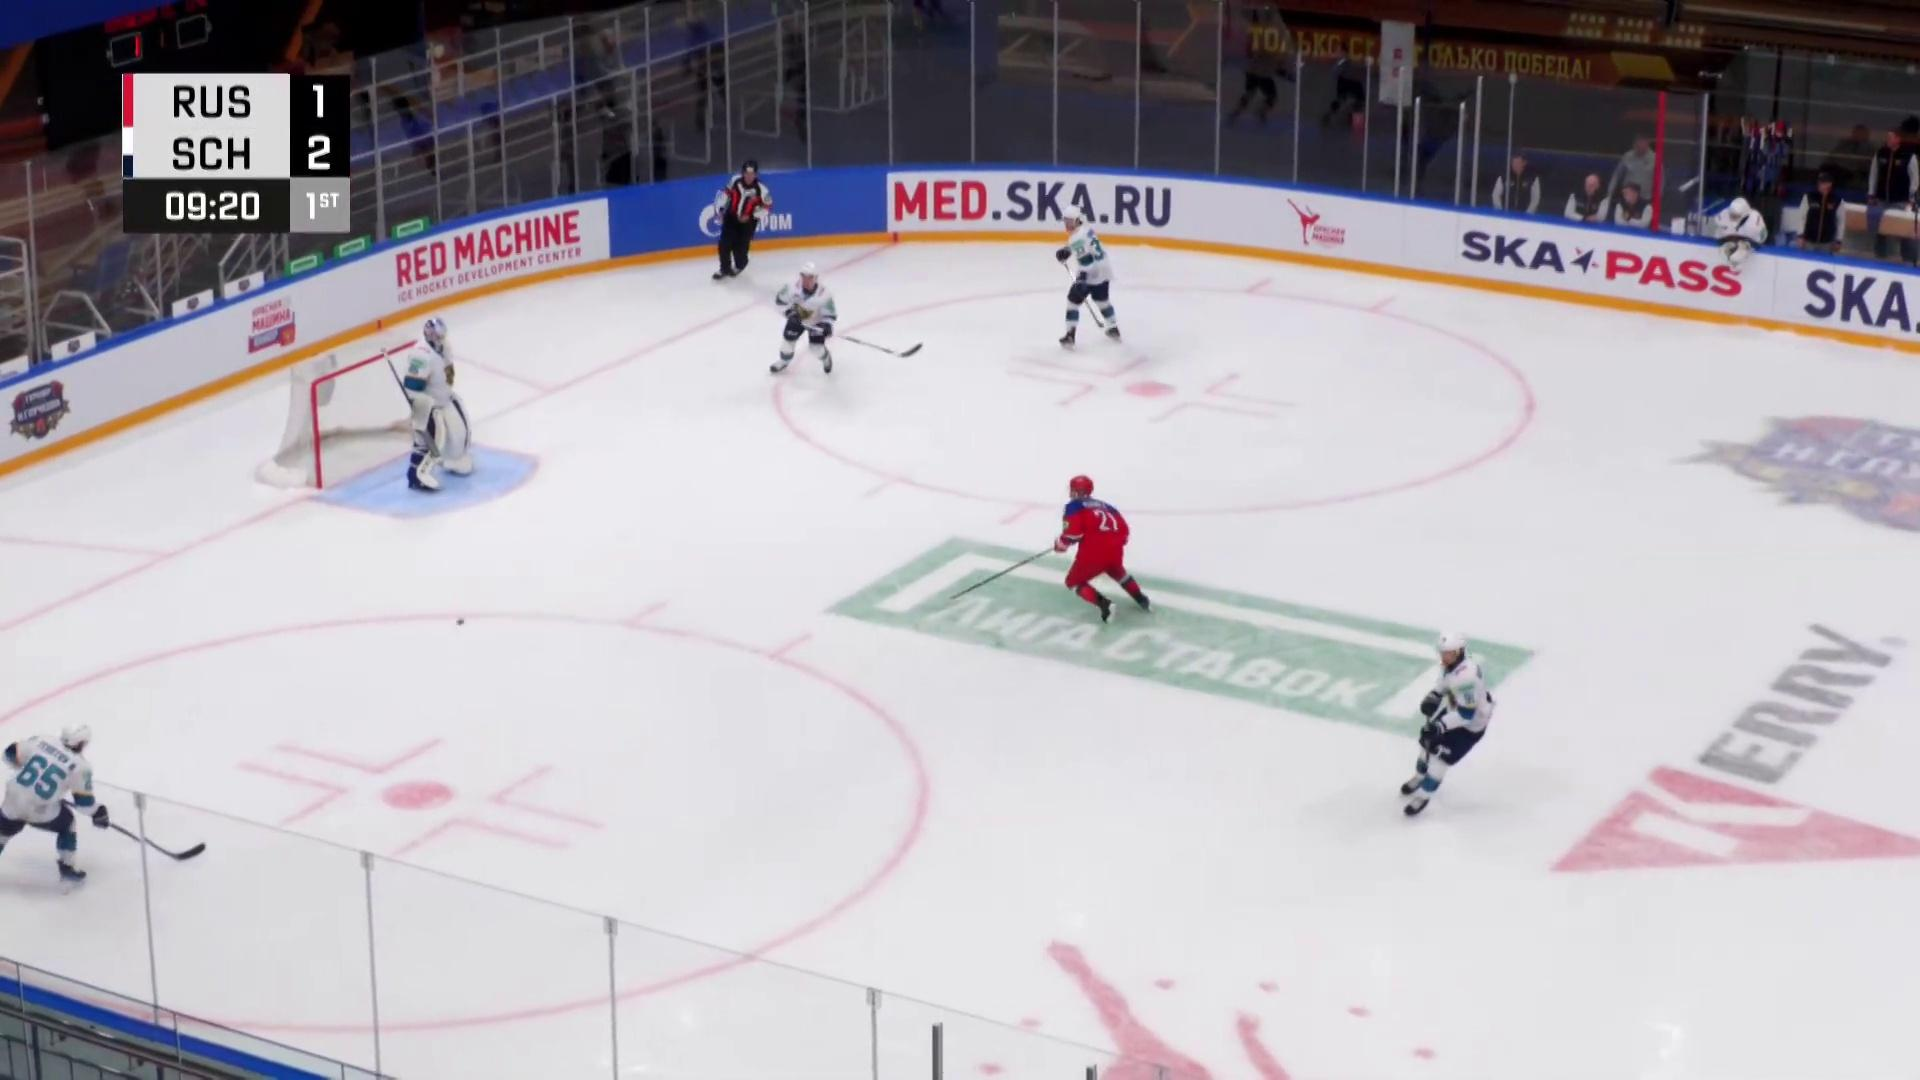ball: (455, 618, 465, 626)
